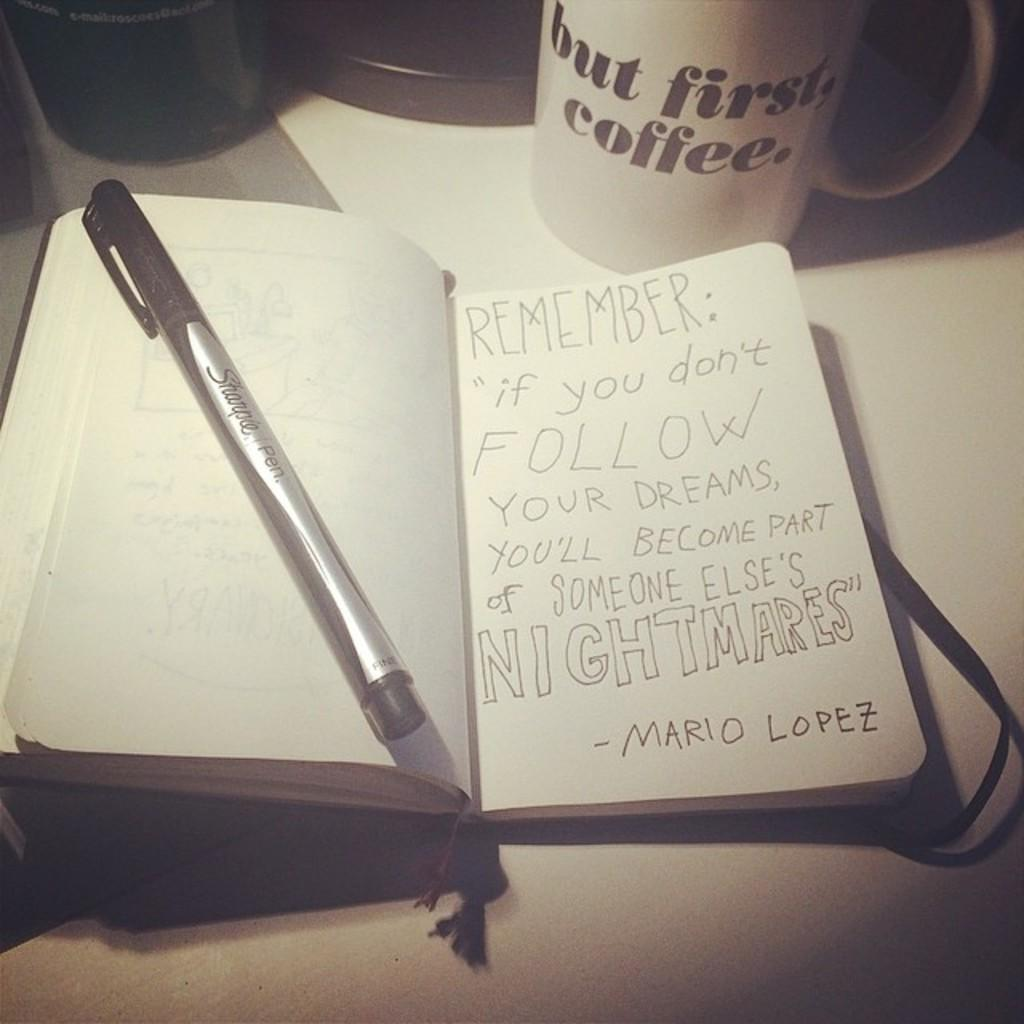pen: (80, 176, 430, 747)
